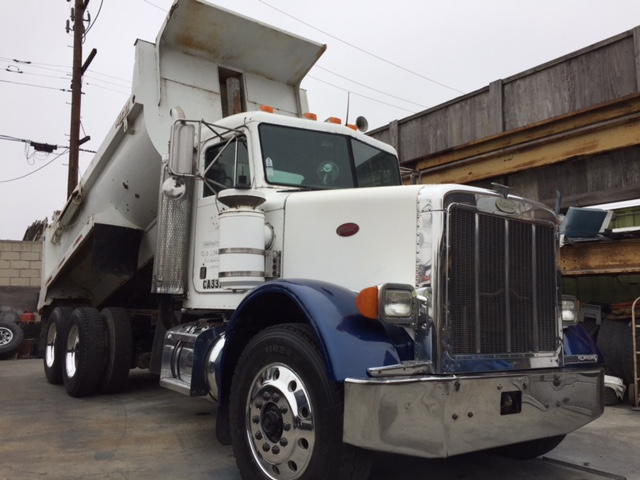truck: (28, 1, 612, 475)
